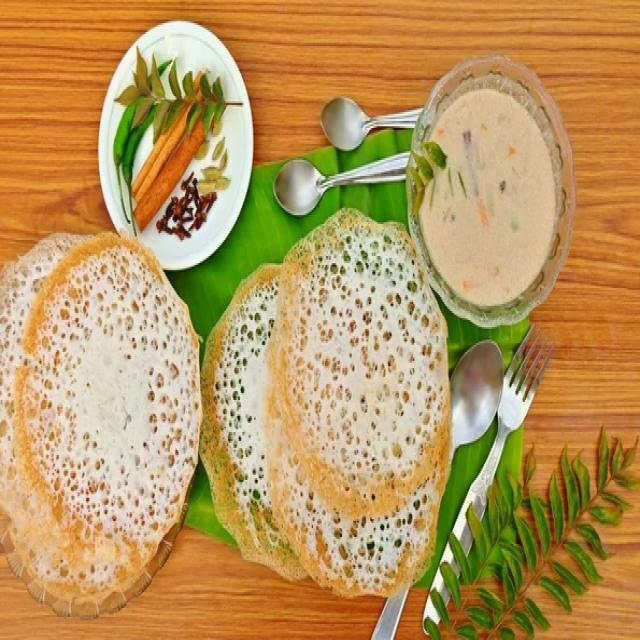AAPAM: (196, 216, 450, 604), (2, 235, 204, 602)
KURMA: (416, 90, 555, 301)
